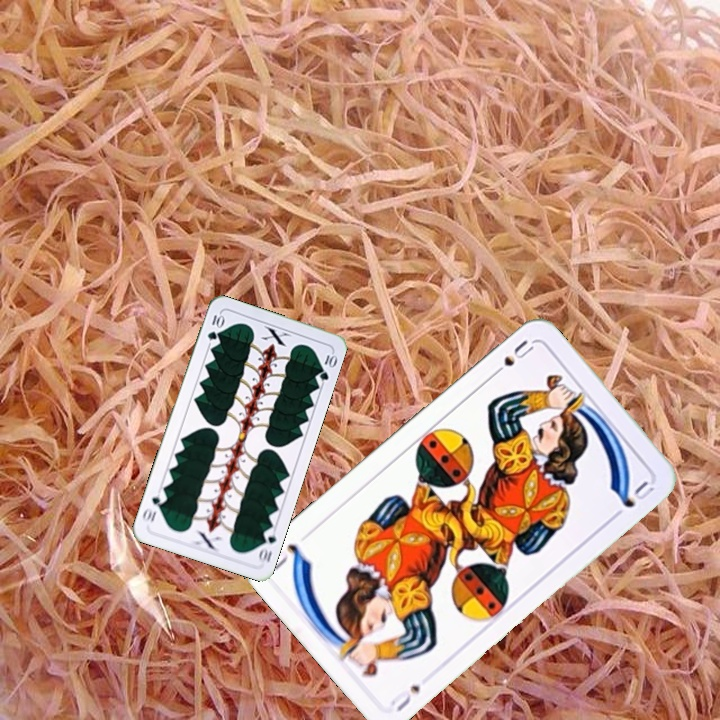G10: (254, 524, 279, 566), (203, 310, 226, 343)
SU: (486, 335, 537, 381), (386, 680, 423, 715)
